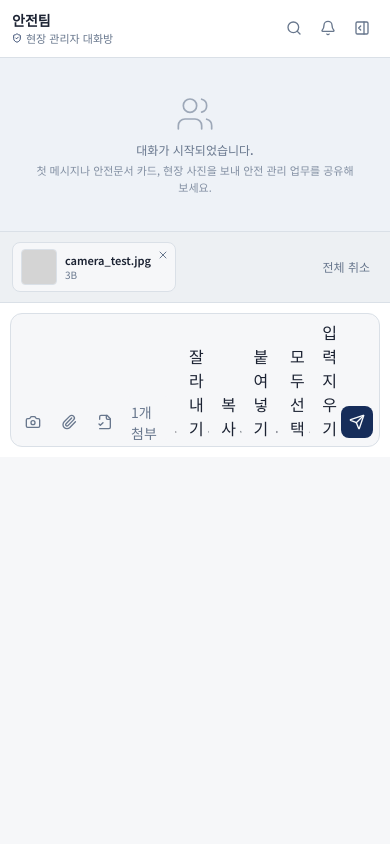
MessengerChatPane history and mute › provides direct camera capture and file attachment buttons without duplicate gallery button
Earlier steps of the test are not shown.
What coordinates should you click on to do the following:
click the button titled "전송"
I would click on:
 (357, 422)
Its box is [341, 406, 373, 438].
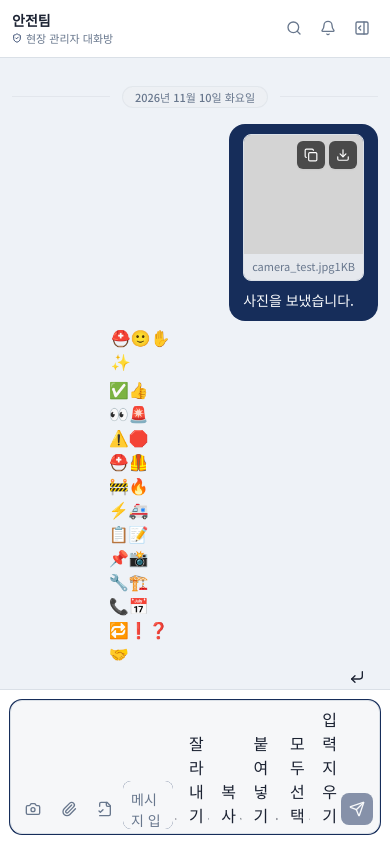
Now the text "사진을 보냈습니다." is shown, box [243, 289, 364, 312]
